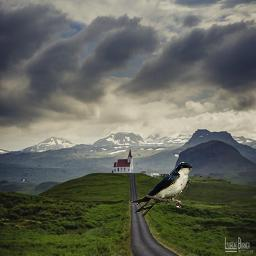Swallow: (129, 162, 192, 217)
